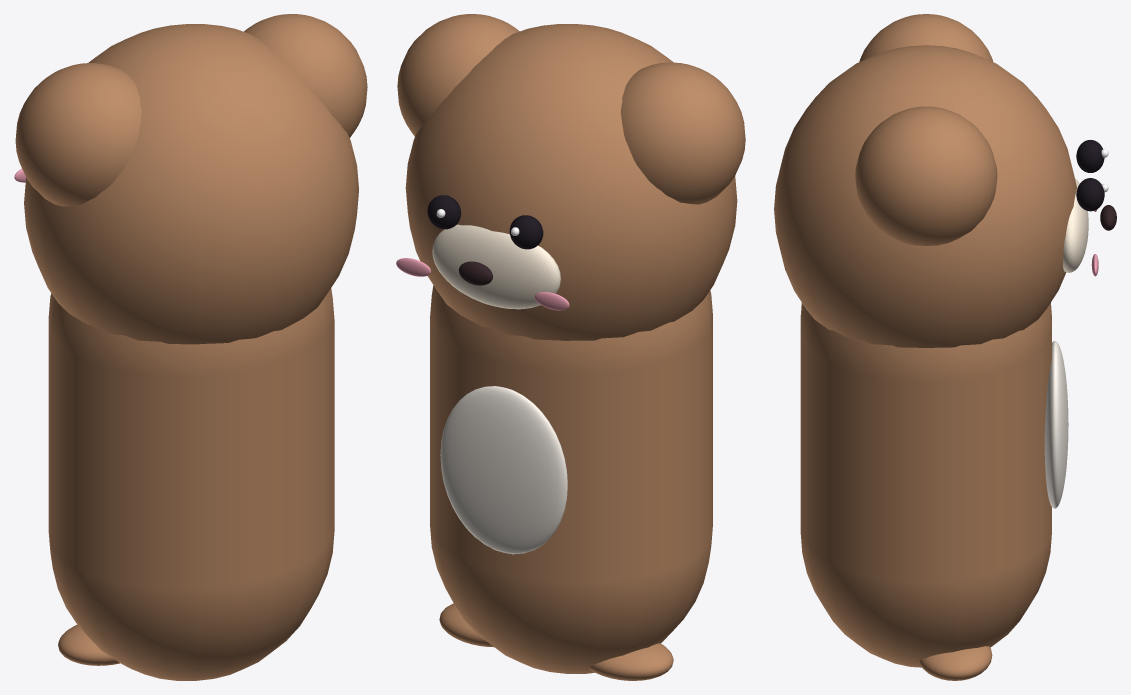
File: bram-bear.glb
3 renders of one model, left to right at view 1: azimuth 30°, elevation 25°; view 2: azimuth 150°, elevation 25°; view 3: azimuth 270°, elevation 25°, orthographic. The views are drawn at different scales.
Size of the model in its own units: 0.76 by 1.38 by 0.7207.
